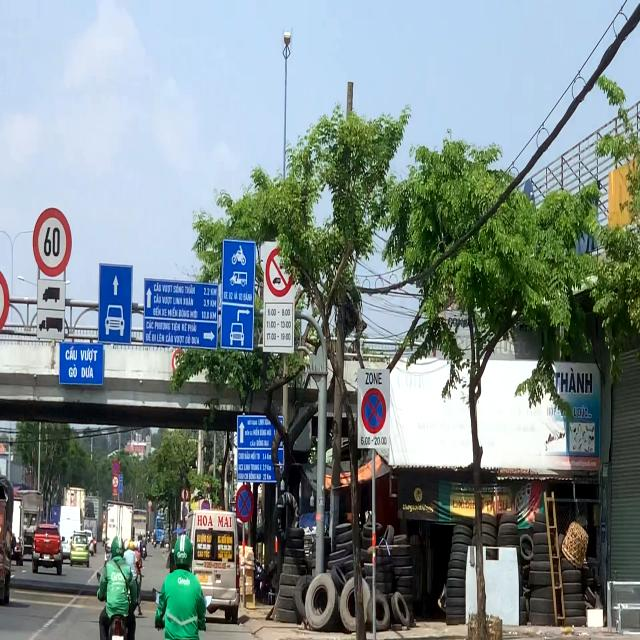P.127: (33, 207, 72, 277)
P.130: (361, 388, 387, 434), (235, 484, 254, 522), (112, 460, 119, 475)
